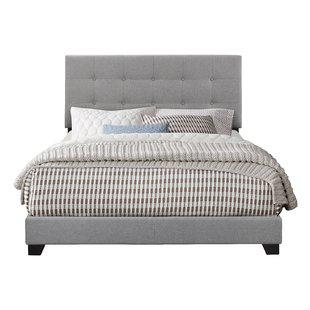bed: (10, 47, 304, 278)
